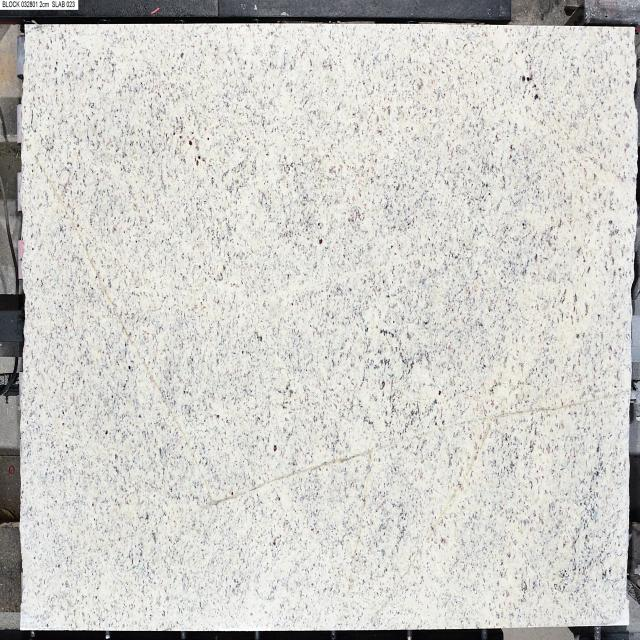chapa: (20, 23, 636, 630)
